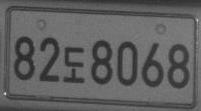0: (116, 40, 138, 86)
2: (38, 36, 59, 81)
6: (141, 42, 164, 88)
8: (11, 35, 35, 80), (166, 43, 190, 88), (90, 39, 113, 84)
도: (63, 46, 85, 84)
